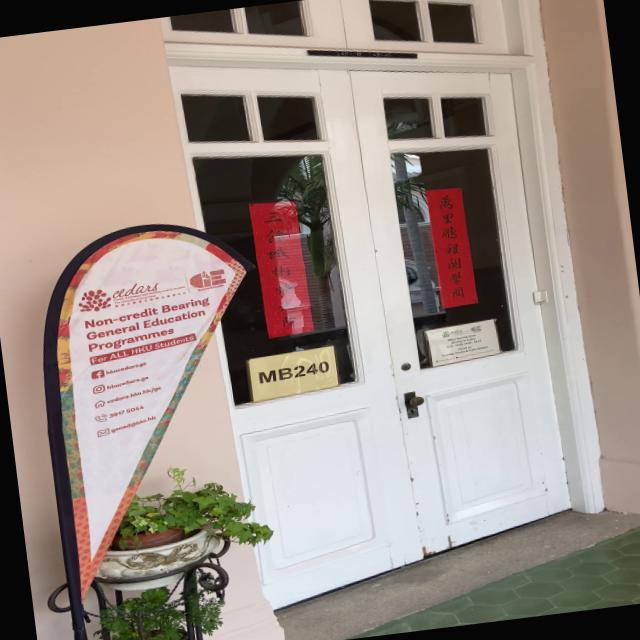room240: (246, 348, 340, 396)
